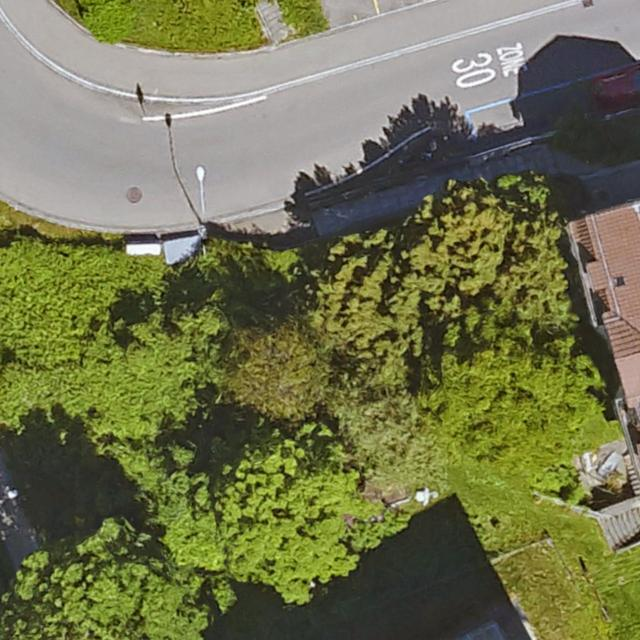tree: (167, 421, 399, 606), (394, 171, 576, 354), (420, 320, 599, 464), (0, 529, 208, 640), (301, 231, 421, 354), (231, 329, 332, 424)
